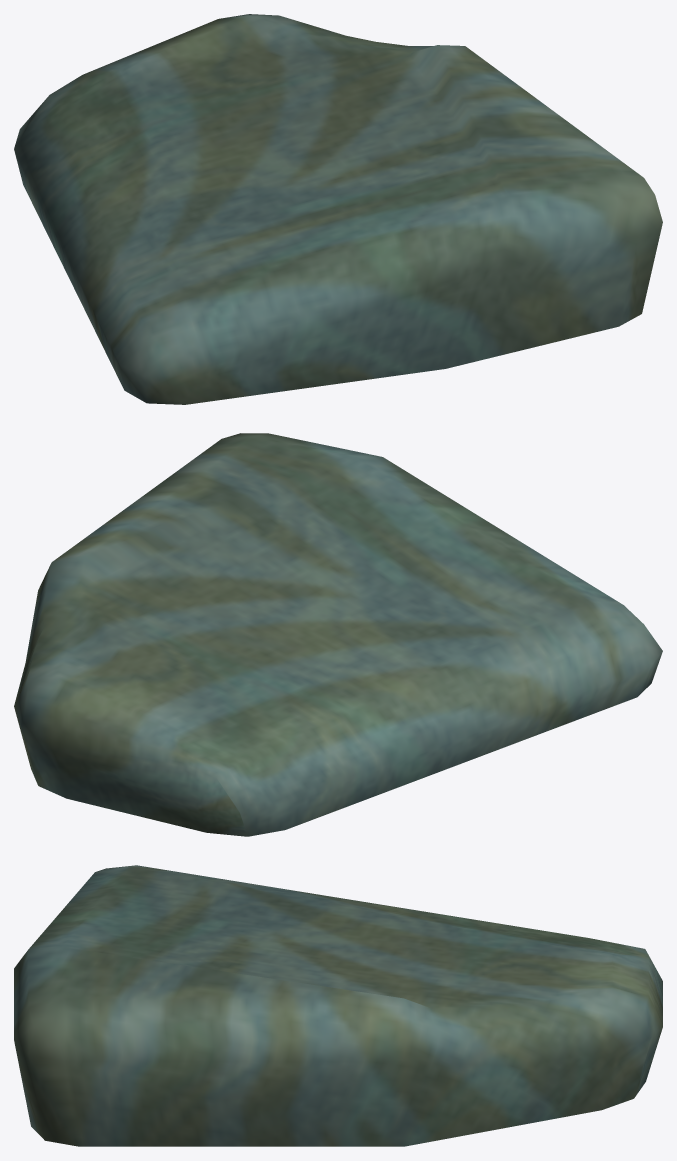
Rendered from BlockTile_F.dae.
3 views of the same model, one above another, from view 1: azimuth 30°, elevation 25°; view 2: azimuth 150°, elevation 25°; view 3: azimuth 270°, elevation 25° (orthographic). The views are drawn at different scales.
Parts seen in each view (by area): view 1: BlockTile_F; view 2: BlockTile_F; view 3: BlockTile_F.
Boxes of the visible parts, <box> form: BlockTile_F: <box>14,14,662,404</box>; BlockTile_F: <box>14,433,662,836</box>; BlockTile_F: <box>14,865,662,1146</box>.
Size of what is drawn, in the model's own units: 77.59 by 20.67 by 90.
